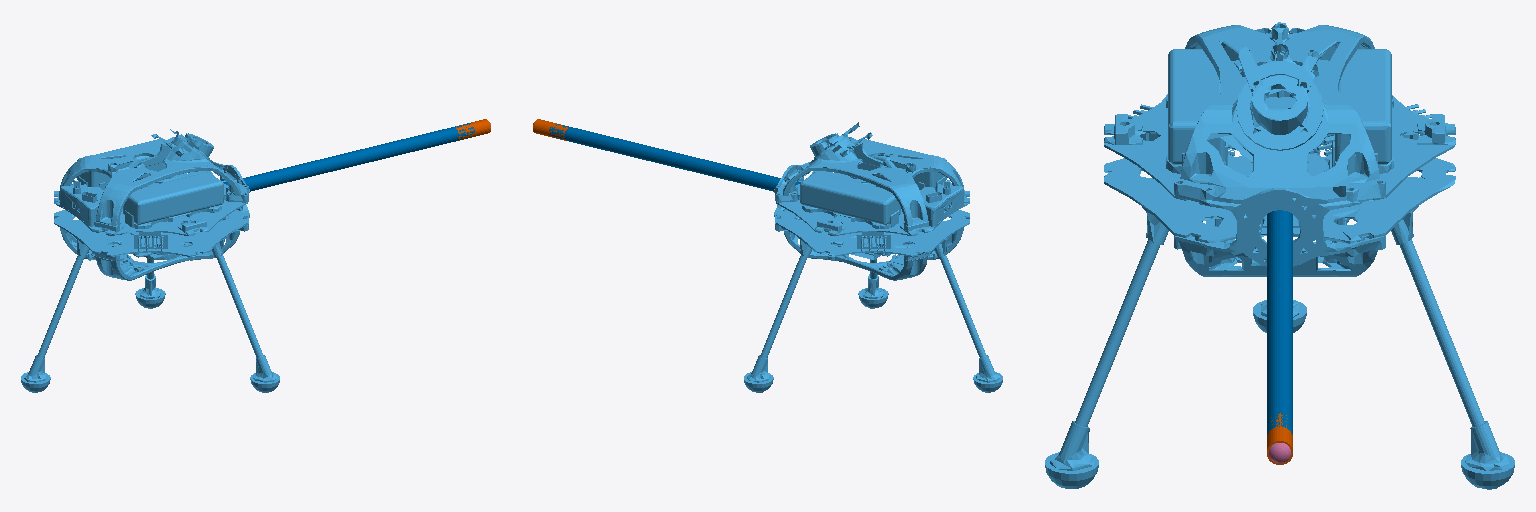
robot.urdf — ouzel:
<?xml version="1.0" encoding="utf-8"?>
<!-- =================================================================================== -->
<!-- |    This document was autogenerated by xacro from ouzel_delta_base.xacro         | -->
<!-- |    EDITING THIS FILE BY HAND IS NOT RECOMMENDED                                 | -->
<!-- =================================================================================== -->
<!--
  Copyright 2015 [author], ASL, ETH Zurich, Switzerland
  Copyright 2015 [author], ASL, ETH Zurich, Switzerland
  Copyright 2015 [author], ASL, ETH Zurich, Switzerland
  Copyright 2015 [author], ASL, ETH Zurich, Switzerland
  Copyright 2015 [author], ASL, ETH Zurich, Switzerland

  Licensed under the Apache License, Version 2.0 (the "License");
  you may not use this file except in compliance with the License.
  You may obtain a copy of the License at

  http://www.apache.org/licenses/LICENSE-2.0

  Unless required by applicable law or agreed to in writing, software
  distributed under the License is distributed on an "AS IS" BASIS,
  WITHOUT WARRANTIES OR CONDITIONS OF ANY KIND, either express or implied.
  See the License for the specific language governing permissions and
  limitations under the License.
-->
<robot name="ouzel">
  <!-- =============================================================== -->
  <!-- ==================== ROS INTERFACE MACRO ====================== -->
  <!-- =============================================================== -->
  <!-- <xacro:macro 
  		name="ros_interface_plugin_macro"
  		params="namespace">
    <gazebo>
      <plugin name="ros_interface_plugin" filename="librotors_gazebo_ros_interface_plugin.so">
        <robotNamespace>${namespace}</robotNamespace>
      </plugin>
    </gazebo>
  </xacro:macro>-->
  <link name="ouzel/base_link"/>
  <joint name="ouzel/base_joint" type="fixed">
    <origin rpy="0 0 0" xyz="0 0 0"/>
    <parent link="ouzel/base_link"/>
    <child link="ouzel/base_link_inertia"/>
  </joint>
  <link name="ouzel/base_link_inertia">
    <inertial>
      <mass value="2.53"/>
      <!-- [kg] -->
      <origin xyz="0.0 0.0 0.03"/>
      <inertia ixx="0.0075" ixy="-3.4208e-05" ixz="2.4695e-05" iyy="0.010939" iyz="-3.8826e-06" izz="0.01369"/>
    </inertial>
    <visual>
      <origin rpy="0 0 0" xyz="0 0 0"/>
      <geometry>
        <mesh filename="ouzel_simple.stl" scale="1 1 1"/>
      </geometry>
    </visual>
    <collision>
      <origin rpy="0 0 0" xyz="0 0 0"/>
      <geometry>
        <box size="0.22 0.22 0.45"/>
        <!-- [m] [m] [m] -->
      </geometry>
      <material name="">
                <contact name="omav"/>
      </material>
    </collision>
  </link>

  <!-- attach multirotor_base_plugin to the base_link -->
  
  <!-- Rotor tilt_unit -->
  <joint name="ouzel/tilt_unit_0_revolutejoint" type="continuous">
    <origin rpy="0 0 4.71238898038" xyz="0 -0.3 0"/>
    <axis xyz="1 0 0"/>
    <parent link="ouzel/base_link"/>
    <child link="ouzel/tilt_unit_0"/>
  </joint>
  <link name="ouzel/tilt_unit_0">
    <inertial>
      <mass value="0.277"/>
      <!-- [kg] -->
      <inertia ixx="0.00034257" ixy="0" ixz="0" iyy="0.0013205" iyz="0" izz="0.0010037"/>
      <!-- [kg m^2] [kg m^2] [kg m^2] [kg m^2] [kg m^2] [kg m^2] -->
    </inertial>
    <visual>
      <geometry>
        <mesh filename="omav_tiltarm.dae" scale="1 1 1"/>
      </geometry>
    </visual>
    <collision>
      <geometry>
        <box size="0.005 0.005 0.005"/>
        <!-- [m] -->
      </geometry>
    </collision>
  </link>
  
  <!-- Upper Rotor -->
  <joint name="rotor_0_joint" type="continuous">
    <origin rpy="0 0 0" xyz="0 0 0.06"/>
    <axis xyz="0 0 1"/>
    <parent link="ouzel/tilt_unit_0"/>
    <child link="rotor_0"/>
  </joint>
  <link name="rotor_0">
    <inertial>
      <mass value="0.0065"/>
      <!-- [kg] -->
      <inertia ixx="2.2154157805e-06" ixy="0.0" ixz="0.0" iyy="7.08147091741e-05" iyz="0.0" izz="7.29326249936e-05"/>
    </inertial>
    <visual>
      <geometry>
        <mesh filename="propeller_ccw.dae" scale="0.1143 0.1143 0.1143"/>
      </geometry>
    </visual>
    <collision>
      <geometry>
        <cylinder length="0.005" radius="0.1143"/>
        <!-- [m] -->
      </geometry>
    </collision>
  </link>
  
  <!-- Lower Rotor -->
  <joint name="rotor_6_joint" type="continuous">
    <origin rpy="0 0 0" xyz="0 0 -0.06"/>
    <axis xyz="0 0 1"/>
    <parent link="ouzel/tilt_unit_0"/>
    <child link="rotor_6"/>
  </joint>
  <link name="rotor_6">
    <inertial>
      <mass value="0.0065"/>
      <!-- [kg] -->
      <inertia ixx="2.2154157805e-06" ixy="0.0" ixz="0.0" iyy="7.08147091741e-05" iyz="0.0" izz="7.29326249936e-05"/>
    </inertial>
    <visual>
      <geometry>
        <mesh filename="propeller_cw.dae" scale="0.1143 0.1143 0.1143"/>
      </geometry>
    </visual>
    <collision>
      <geometry>
        <cylinder length="0.005" radius="0.1143"/>
        <!-- [m] -->
      </geometry>
    </collision>
  </link>
  <!-- Rotor tilt_unit -->
  <joint name="ouzel/tilt_unit_1_revolutejoint" type="continuous">
    <origin rpy="0 0 1.57079632679" xyz="0 0.3 0"/>
    <axis xyz="1 0 0"/>
    <parent link="ouzel/base_link"/>
    <child link="ouzel/tilt_unit_1"/>
  </joint>
  <link name="ouzel/tilt_unit_1">
    <inertial>
      <mass value="0.277"/>
      <!-- [kg] -->
      <inertia ixx="0.00034257" ixy="0" ixz="0" iyy="0.0013205" iyz="0" izz="0.0010037"/>
      <!-- [kg m^2] [kg m^2] [kg m^2] [kg m^2] [kg m^2] [kg m^2] -->
    </inertial>
    <visual>
      <geometry>
        <mesh filename="omav_tiltarm.dae" scale="1 1 1"/>
      </geometry>
    </visual>
    <collision>
      <geometry>
        <box size="0.005 0.005 0.005"/>
        <!-- [m] -->
      </geometry>
    </collision>
  </link>
  
  <!-- Upper Rotor -->
  <joint name="rotor_1_joint" type="continuous">
    <origin rpy="0 0 0" xyz="0 0 0.06"/>
    <axis xyz="0 0 1"/>
    <parent link="ouzel/tilt_unit_1"/>
    <child link="rotor_1"/>
  </joint>
  <link name="rotor_1">
    <inertial>
      <mass value="0.0065"/>
      <!-- [kg] -->
      <inertia ixx="2.2154157805e-06" ixy="0.0" ixz="0.0" iyy="7.08147091741e-05" iyz="0.0" izz="7.29326249936e-05"/>
    </inertial>
    <visual>
      <geometry>
        <mesh filename="propeller_cw.dae" scale="0.1143 0.1143 0.1143"/>
      </geometry>
    </visual>
    <collision>
      <geometry>
        <cylinder length="0.005" radius="0.1143"/>
        <!-- [m] -->
      </geometry>
    </collision>
  </link>
  
  <!-- Lower Rotor -->
  <joint name="rotor_7_joint" type="continuous">
    <origin rpy="0 0 0" xyz="0 0 -0.06"/>
    <axis xyz="0 0 1"/>
    <parent link="ouzel/tilt_unit_1"/>
    <child link="rotor_7"/>
  </joint>
  <link name="rotor_7">
    <inertial>
      <mass value="0.0065"/>
      <!-- [kg] -->
      <inertia ixx="2.2154157805e-06" ixy="0.0" ixz="0.0" iyy="7.08147091741e-05" iyz="0.0" izz="7.29326249936e-05"/>
    </inertial>
    <visual>
      <geometry>
        <mesh filename="propeller_ccw.dae" scale="0.1143 0.1143 0.1143"/>
      </geometry>
    </visual>
    <collision>
      <geometry>
        <cylinder length="0.005" radius="0.1143"/>
        <!-- [m] -->
      </geometry>
    </collision>
  </link>
 
  <!-- Rotor tilt_unit -->
  <joint name="ouzel/tilt_unit_2_revolutejoint" type="continuous">
    <origin rpy="0 0 0.52359877559" xyz="0.259807621135 0.15 0"/>
    <axis xyz="1 0 0"/>
    <parent link="ouzel/base_link"/>
    <child link="ouzel/tilt_unit_2"/>
  </joint>
  <link name="ouzel/tilt_unit_2">
    <inertial>
      <mass value="0.277"/>
      <!-- [kg] -->
      <inertia ixx="0.00034257" ixy="0" ixz="0" iyy="0.0013205" iyz="0" izz="0.0010037"/>
      <!-- [kg m^2] [kg m^2] [kg m^2] [kg m^2] [kg m^2] [kg m^2] -->
    </inertial>
    <visual>
      <geometry>
        <mesh filename="omav_tiltarm.dae" scale="1 1 1"/>
      </geometry>
    </visual>
    <collision>
      <geometry>
        <box size="0.005 0.005 0.005"/>
        <!-- [m] -->
      </geometry>
    </collision>
  </link>
  
  <!-- Upper Rotor -->
  <joint name="rotor_2_joint" type="continuous">
    <origin rpy="0 0 0" xyz="0 0 0.06"/>
    <axis xyz="0 0 1"/>
    <parent link="ouzel/tilt_unit_2"/>
    <child link="rotor_2"/>
  </joint>
  <link name="rotor_2">
    <inertial>
      <mass value="0.0065"/>
      <!-- [kg] -->
      <inertia ixx="2.2154157805e-06" ixy="0.0" ixz="0.0" iyy="7.08147091741e-05" iyz="0.0" izz="7.29326249936e-05"/>
    </inertial>
    <visual>
      <geometry>
        <mesh filename="propeller_ccw.dae" scale="0.1143 0.1143 0.1143"/>
      </geometry>
    </visual>
    <collision>
      <geometry>
        <cylinder length="0.005" radius="0.1143"/>
        <!-- [m] -->
      </geometry>
    </collision>
  </link>
 
  <!-- Lower Rotor -->
  <joint name="rotor_8_joint" type="continuous">
    <origin rpy="0 0 0" xyz="0 0 -0.06"/>
    <axis xyz="0 0 1"/>
    <parent link="ouzel/tilt_unit_2"/>
    <child link="rotor_8"/>
  </joint>
  <link name="rotor_8">
    <inertial>
      <mass value="0.0065"/>
      <!-- [kg] -->
      <inertia ixx="2.2154157805e-06" ixy="0.0" ixz="0.0" iyy="7.08147091741e-05" iyz="0.0" izz="7.29326249936e-05"/>
    </inertial>
    <visual>
      <geometry>
        <mesh filename="propeller_cw.dae" scale="0.1143 0.1143 0.1143"/>
      </geometry>
    </visual>
    <collision>
      <geometry>
        <cylinder length="0.005" radius="0.1143"/>
        <!-- [m] -->
      </geometry>
    </collision>
  </link>
  
  <!-- Rotor tilt_unit -->
  <joint name="ouzel/tilt_unit_3_revolutejoint" type="continuous">
    <origin rpy="0 0 3.66519142919" xyz="-0.259807621135 -0.15 0"/>
    <axis xyz="1 0 0"/>
    <parent link="ouzel/base_link"/>
    <child link="ouzel/tilt_unit_3"/>
  </joint>
  <link name="ouzel/tilt_unit_3">
    <inertial>
      <mass value="0.277"/>
      <!-- [kg] -->
      <inertia ixx="0.00034257" ixy="0" ixz="0" iyy="0.0013205" iyz="0" izz="0.0010037"/>
      <!-- [kg m^2] [kg m^2] [kg m^2] [kg m^2] [kg m^2] [kg m^2] -->
    </inertial>
    <visual>
      <geometry>
        <mesh filename="omav_tiltarm.dae" scale="1 1 1"/>
      </geometry>
    </visual>
    <collision>
      <geometry>
        <box size="0.005 0.005 0.005"/>
        <!-- [m] -->
      </geometry>
    </collision>
  </link>
  
  <!-- Upper Rotor -->
  <joint name="rotor_3_joint" type="continuous">
    <origin rpy="0 0 0" xyz="0 0 0.06"/>
    <axis xyz="0 0 1"/>
    <parent link="ouzel/tilt_unit_3"/>
    <child link="rotor_3"/>
  </joint>
  <link name="rotor_3">
    <inertial>
      <mass value="0.0065"/>
      <!-- [kg] -->
      <inertia ixx="2.2154157805e-06" ixy="0.0" ixz="0.0" iyy="7.08147091741e-05" iyz="0.0" izz="7.29326249936e-05"/>
    </inertial>
    <visual>
      <geometry>
        <mesh filename="propeller_cw.dae" scale="0.1143 0.1143 0.1143"/>
      </geometry>
    </visual>
    <collision>
      <geometry>
        <cylinder length="0.005" radius="0.1143"/>
        <!-- [m] -->
      </geometry>
    </collision>
  </link>
  
  <!-- Lower Rotor -->
  <joint name="rotor_9_joint" type="continuous">
    <origin rpy="0 0 0" xyz="0 0 -0.06"/>
    <axis xyz="0 0 1"/>
    <parent link="ouzel/tilt_unit_3"/>
    <child link="rotor_9"/>
  </joint>
  <link name="rotor_9">
    <inertial>
      <mass value="0.0065"/>
      <!-- [kg] -->
      <inertia ixx="2.2154157805e-06" ixy="0.0" ixz="0.0" iyy="7.08147091741e-05" iyz="0.0" izz="7.29326249936e-05"/>
    </inertial>
    <visual>
      <geometry>
        <mesh filename="propeller_ccw.dae" scale="0.1143 0.1143 0.1143"/>
      </geometry>
    </visual>
    <collision>
      <geometry>
        <cylinder length="0.005" radius="0.1143"/>
        <!-- [m] -->
      </geometry>
    </collision>
  </link>
  
  <!-- Rotor tilt_unit -->
  <joint name="ouzel/tilt_unit_4_revolutejoint" type="continuous">
    <origin rpy="0 0 5.75958653158" xyz="0.259807621135 -0.15 0"/>
    <axis xyz="1 0 0"/>
    <parent link="ouzel/base_link"/>
    <child link="ouzel/tilt_unit_4"/>
  </joint>
  <link name="ouzel/tilt_unit_4">
    <inertial>
      <mass value="0.277"/>
      <!-- [kg] -->
      <inertia ixx="0.00034257" ixy="0" ixz="0" iyy="0.0013205" iyz="0" izz="0.0010037"/>
      <!-- [kg m^2] [kg m^2] [kg m^2] [kg m^2] [kg m^2] [kg m^2] -->
    </inertial>
    <visual>
      <geometry>
        <mesh filename="omav_tiltarm.dae" scale="1 1 1"/>
      </geometry>
    </visual>
    <collision>
      <geometry>
        <box size="0.005 0.005 0.005"/>
        <!-- [m] -->
      </geometry>
    </collision>
  </link>
  
  <!-- Upper Rotor -->
  <joint name="rotor_4_joint" type="continuous">
    <origin rpy="0 0 0" xyz="0 0 0.06"/>
    <axis xyz="0 0 1"/>
    <parent link="ouzel/tilt_unit_4"/>
    <child link="rotor_4"/>
  </joint>
  <link name="rotor_4">
    <inertial>
      <mass value="0.0065"/>
      <!-- [kg] -->
      <inertia ixx="2.2154157805e-06" ixy="0.0" ixz="0.0" iyy="7.08147091741e-05" iyz="0.0" izz="7.29326249936e-05"/>
    </inertial>
    <visual>
      <geometry>
        <mesh filename="propeller_cw.dae" scale="0.1143 0.1143 0.1143"/>
      </geometry>
    </visual>
    <collision>
      <geometry>
        <cylinder length="0.005" radius="0.1143"/>
        <!-- [m] -->
      </geometry>
    </collision>
  </link>
  
  <!-- Lower Rotor -->
  <joint name="rotor_10_joint" type="continuous">
    <origin rpy="0 0 0" xyz="0 0 -0.06"/>
    <axis xyz="0 0 1"/>
    <parent link="ouzel/tilt_unit_4"/>
    <child link="rotor_10"/>
  </joint>
  <link name="rotor_10">
    <inertial>
      <mass value="0.0065"/>
      <!-- [kg] -->
      <inertia ixx="2.2154157805e-06" ixy="0.0" ixz="0.0" iyy="7.08147091741e-05" iyz="0.0" izz="7.29326249936e-05"/>
    </inertial>
    <visual>
      <geometry>
        <mesh filename="propeller_ccw.dae" scale="0.1143 0.1143 0.1143"/>
      </geometry>
    </visual>
    <collision>
      <geometry>
        <cylinder length="0.005" radius="0.1143"/>
        <!-- [m] -->
      </geometry>
    </collision>
  </link>
  
  <!-- Rotor tilt_unit -->
  <joint name="ouzel/tilt_unit_5_revolutejoint" type="continuous">
    <origin rpy="0 0 2.61799387799" xyz="-0.259807621135 0.15 0"/>
    <axis xyz="1 0 0"/>
    <parent link="ouzel/base_link"/>
    <child link="ouzel/tilt_unit_5"/>
  </joint>
  <link name="ouzel/tilt_unit_5">
    <inertial>
      <mass value="0.277"/>
      <!-- [kg] -->
      <inertia ixx="0.00034257" ixy="0" ixz="0" iyy="0.0013205" iyz="0" izz="0.0010037"/>
      <!-- [kg m^2] [kg m^2] [kg m^2] [kg m^2] [kg m^2] [kg m^2] -->
    </inertial>
    <visual>
      <geometry>
        <mesh filename="omav_tiltarm.dae" scale="1 1 1"/>
      </geometry>
    </visual>
    <collision>
      <geometry>
        <box size="0.005 0.005 0.005"/>
        <!-- [m] -->
      </geometry>
    </collision>
  </link>
  
  <!-- Upper Rotor -->
  <joint name="rotor_5_joint" type="continuous">
    <origin rpy="0 0 0" xyz="0 0 0.06"/>
    <axis xyz="0 0 1"/>
    <parent link="ouzel/tilt_unit_5"/>
    <child link="rotor_5"/>
  </joint>
  <link name="rotor_5">
    <inertial>
      <mass value="0.0065"/>
      <!-- [kg] -->
      <inertia ixx="2.2154157805e-06" ixy="0.0" ixz="0.0" iyy="7.08147091741e-05" iyz="0.0" izz="7.29326249936e-05"/>
    </inertial>
    <visual>
      <geometry>
        <mesh filename="propeller_ccw.dae" scale="0.1143 0.1143 0.1143"/>
      </geometry>
    </visual>
    <collision>
      <geometry>
        <cylinder length="0.005" radius="0.1143"/>
        <!-- [m] -->
      </geometry>
    </collision>
  </link>
  
  <!-- Lower Rotor -->
  <joint name="rotor_11_joint" type="continuous">
    <origin rpy="0 0 0" xyz="0 0 -0.06"/>
    <axis xyz="0 0 1"/>
    <parent link="ouzel/tilt_unit_5"/>
    <child link="rotor_11"/>
  </joint>
  <link name="rotor_11">
    <inertial>
      <mass value="0.0065"/>
      <!-- [kg] -->
      <inertia ixx="2.2154157805e-06" ixy="0.0" ixz="0.0" iyy="7.08147091741e-05" iyz="0.0" izz="7.29326249936e-05"/>
    </inertial>
    <visual>
      <geometry>
        <mesh filename="propeller_cw.dae" scale="0.1143 0.1143 0.1143"/>
      </geometry>
    </visual>
    <collision>
      <geometry>
        <cylinder length="0.005" radius="0.1143"/>
        <!-- [m] -->
      </geometry>
    </collision>
  </link>

  <!-- [kg] -->
  <!-- Add Ouzel frames -->
  <joint name="ouzel/manipulator_joint" type="fixed">
    <axis xyz="0 0 1"/>
    <origin rpy="0 1.5708 0" xyz="0 0 0"/>
    <parent link="ouzel/base_link"/>
    <child link="ouzel/manipulator"/>
  </joint>

  <link name="ouzel/manipulator">
    <visual>
      <origin rpy="0 0 0" xyz="0 0 0.25"/>
      <geometry>
        <cylinder length="0.5" radius="0.01"/>
      </geometry>
    </visual>
    <collision>
      <origin rpy="0 0 0" xyz="0 0 0.25"/>
      <geometry>
        <cylinder length="0.5" radius="0.01"/>
      </geometry>
    </collision>
    <inertial>
      <mass value="0.18"/>
      <inertia ixx="0.000807" ixy="0" ixz="0" iyy="0.000807" iyz="0" izz="2e-6"/>
    </inertial>
  </link>

  <!-- force-to-ground joint -->
  
  <joint name="ouzel/force_sensor_joint" type="fixed">
    <parent link="ouzel/manipulator"/>
    <child link="ouzel/force_sensor_tool"/>
    <origin rpy="0.0 0.0 0.0" xyz="0.0 0.0 0.5"/>
    <axis xyz="0 0 1"/>
  </joint>

  <!-- force sensor link -->
  <link name="ouzel/force_sensor_tool">
    <visual>
      <origin rpy="0 0 0" xyz="0 0 0"/>
      <geometry>
        <cylinder length="0.05" radius="0.01"/>
      </geometry>
    </visual>
    <collision>
      <origin rpy="0 0 0" xyz="0 0 0"/>
      <geometry>
        <cylinder length="0.05" radius="0.01"/>
      </geometry>
    </collision>
    <inertial>
      <inertia ixx="0.001" ixy="0.0" ixz="0.0" iyy="0.001" iyz="0.0" izz="0.001"/>
      <mass value="0.1"/>
      <!-- [kg] -->
    </inertial>
  </link>
  
  <joint name="ouzel/tool_joint" type="fixed">
    <axis xyz="0 0 1"/>
    <origin rpy="0.0 0.0 0.0" xyz="0 0 0"/>
    <parent link="ouzel/force_sensor_tool"/>
    <child link="ouzel/tool"/>
  </joint>
  <link name="ouzel/tool">
    <visual>
      <origin rpy="0 0 0" xyz="0 0 0.02"/>
      <geometry>
        <!--<cylinder length="0.04" radius="0.01"/>-->
        <sphere radius="0.01"/>
      </geometry>
    </visual>
    <collision>
      <origin rpy="0 0 0" xyz="0 0 0.02"/>
      <geometry>
        <!--<cylinder length="0.04" radius="0.01"/>-->
        <sphere radius="0.01"/>
      </geometry>
    </collision>
    <inertial>
      <mass value="0.03"/>
      <inertia ixx="0.000807" ixy="0" ixz="0" iyy="0.000807" iyz="0" izz="2e-6"/>
    </inertial>
  </link>
  
  <link name="ouzel/imu">
    <inertial>
      <inertia ixx="0.00001" ixy="0.0" ixz="0.0" iyy="0.00001" iyz="0.0" izz="0.00001"/>
      <mass value="0.015"/>
      <!-- [kg] -->
      <origin rpy="0 0 0" xyz="0 0 0"/>
    </inertial>
  </link>
  <!-- IMU joint -->
  <joint name="ouzel/imu_joint" type="fixed">
    <origin rpy="0 0 0" xyz="0 0 0"/>
    <axis xyz="0 0 1"/>
    <parent link="ouzel/base_link_inertia"/>
    <child link="ouzel/imu"/>
  </joint>

</robot>

--- What the picture shows (computed from the rendered views, not written in the file) ---
The picture shows the robot from 3 angles, left to right: view 1: azimuth 30°, elevation 25°; view 2: azimuth 150°, elevation 25°; view 3: azimuth 270°, elevation 25°; orthographic projection.
Model ouzel with 24 links and 23 joints (18 continuous, 5 fixed), rooted at ouzel/base_link, posed all joints at 0.
Visible links, largest first — view 1: ouzel/base_link_inertia, ouzel/manipulator; view 2: ouzel/base_link_inertia, ouzel/manipulator; view 3: ouzel/base_link_inertia, ouzel/manipulator, ouzel/force_sensor_tool.
Link boxes in pixels (x1=…): ouzel/base_link_inertia: x1=21, y1=129, x2=279, y2=392; ouzel/manipulator: x1=224, y1=123, x2=474, y2=191; ouzel/base_link_inertia: x1=744, y1=122, x2=1002, y2=392; ouzel/manipulator: x1=549, y1=124, x2=799, y2=191; ouzel/base_link_inertia: x1=1045, y1=22, x2=1514, y2=489; ouzel/manipulator: x1=1267, y1=210, x2=1292, y2=434; ouzel/force_sensor_tool: x1=1267, y1=413, x2=1292, y2=464.
Size in the robot's own frame: 0.7296 by 0.351 by 0.3381 metres.
Meshes: 4 distinct files referenced, 1 mesh visuals loaded (1 binary STL); not drawn: 18 (reference not matched to a file when rendering).